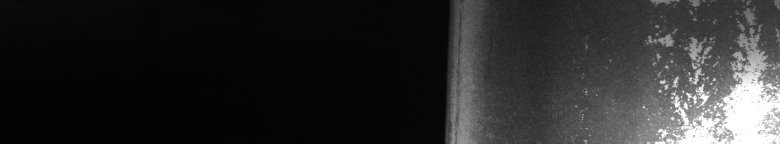kb: (575, 4, 776, 136)
